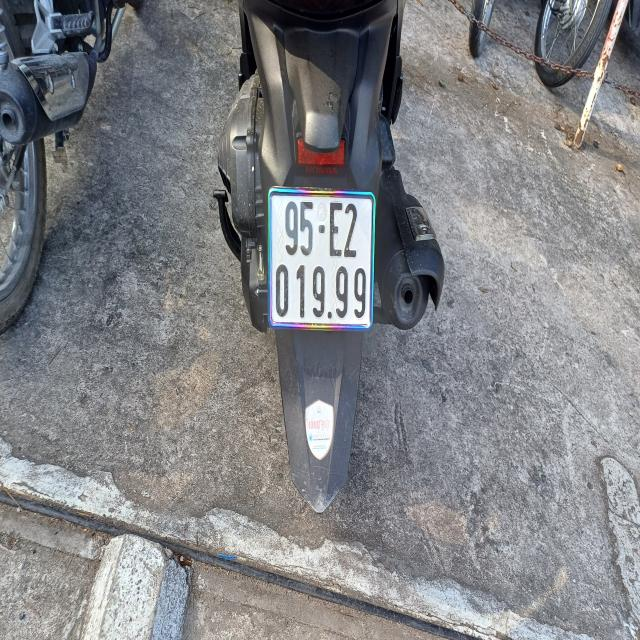0: (274, 260, 291, 320)
1: (294, 265, 307, 323)
2: (342, 204, 358, 260)
5: (300, 198, 315, 262)
9: (283, 195, 300, 259), (312, 263, 326, 320), (334, 267, 349, 319), (353, 267, 368, 319)
E: (330, 200, 342, 258)
